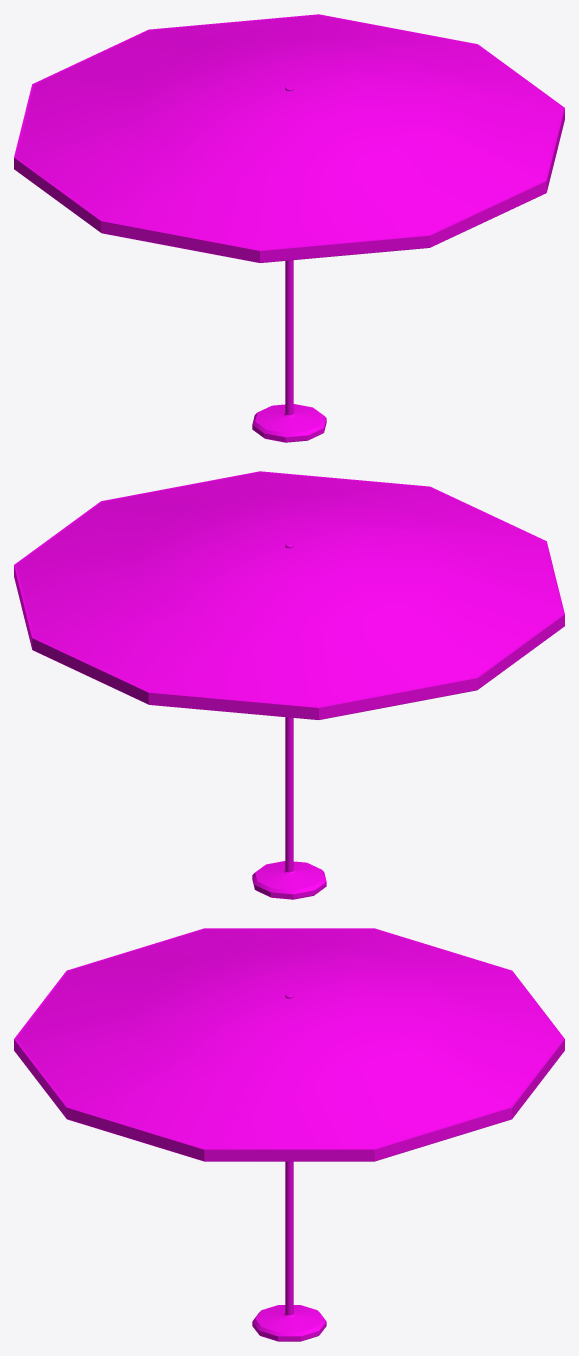
File: parasol 1 var 3.fbx
3 views of the same model, one above another, from view 1: azimuth 30°, elevation 25°; view 2: azimuth 150°, elevation 25°; view 3: azimuth 270°, elevation 25° (orthographic). The views are drawn at different scales.
Visible parts, largest first — view 1: parasol_1_var_3; view 2: parasol_1_var_3; view 3: parasol_1_var_3.
Boxes of the visible parts, <box> form: parasol_1_var_3: <box>14,14,564,442</box>; parasol_1_var_3: <box>14,471,564,899</box>; parasol_1_var_3: <box>14,928,564,1341</box>.
Bounding box in the file's own units: 3.68 × 2.58 × 3.87.
